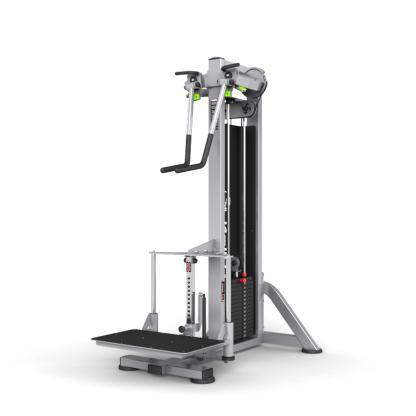lateral raises machine: (91, 57, 323, 384)
